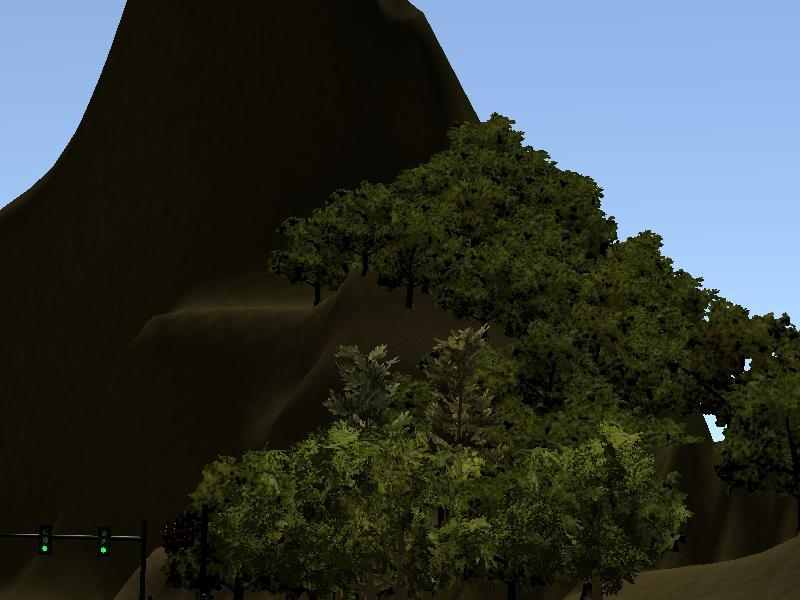Green: (96, 525, 110, 559), (37, 524, 52, 555)
